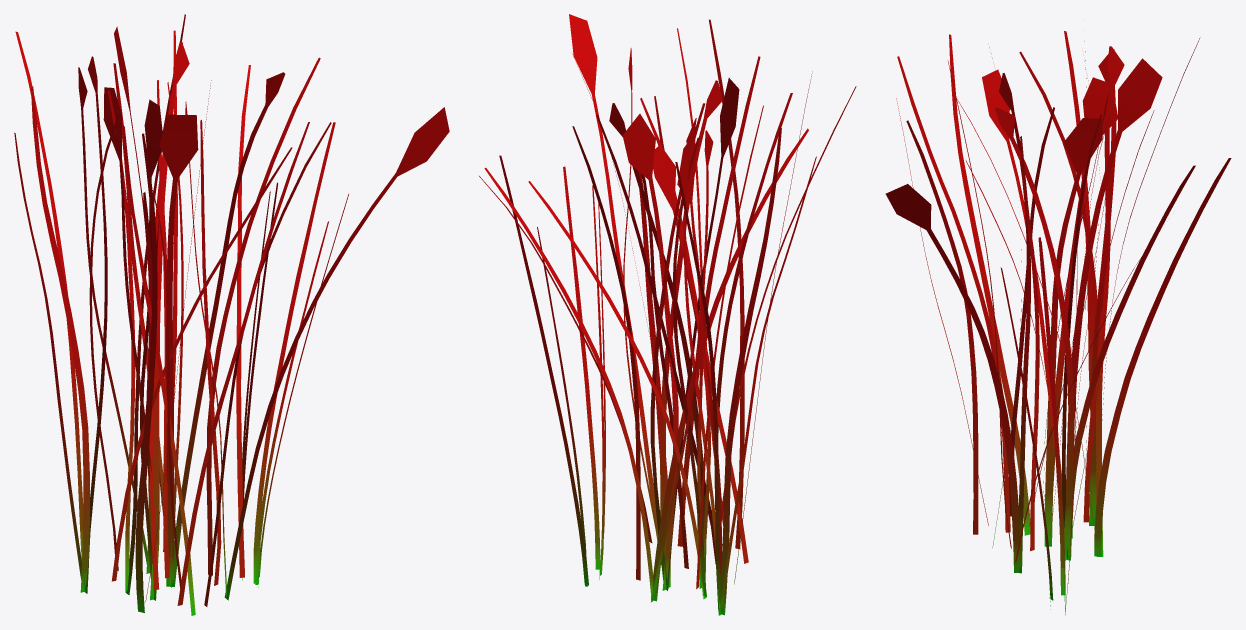
The model's file is Softstem Bulrush_LOD1_Var5_uehjcafia.fbx.
3 renders of one model, left to right at view 1: azimuth 30°, elevation 25°; view 2: azimuth 150°, elevation 25°; view 3: azimuth 270°, elevation 25°, orthographic. The views are drawn at different scales.
Parts seen in each view (by area): view 1: _fe08_Var5_LOD1; view 2: _fe08_Var5_LOD1; view 3: _fe08_Var5_LOD1.
Part boxes in pixels (left/top/right/bottom): _fe08_Var5_LOD1: left=14, top=14, right=449, bottom=615; _fe08_Var5_LOD1: left=479, top=14, right=856, bottom=615; _fe08_Var5_LOD1: left=885, top=31, right=1231, bottom=615.
Size of the model in its own units: 92.09 by 141 by 86.21.
